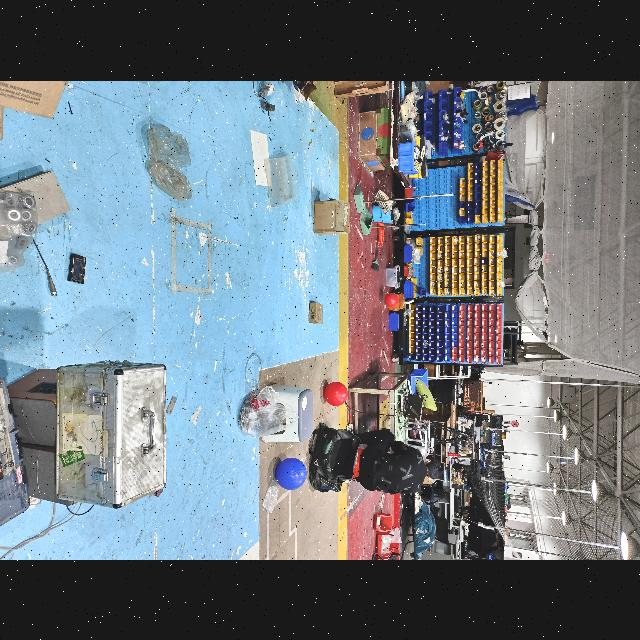B: (272, 457, 308, 491)
R: (322, 382, 350, 406), (384, 292, 400, 308)
